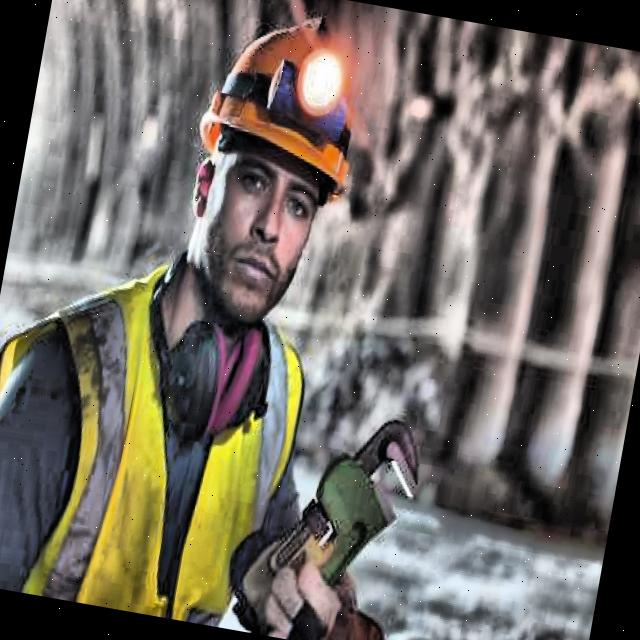helmet: (155, 0, 393, 351)
